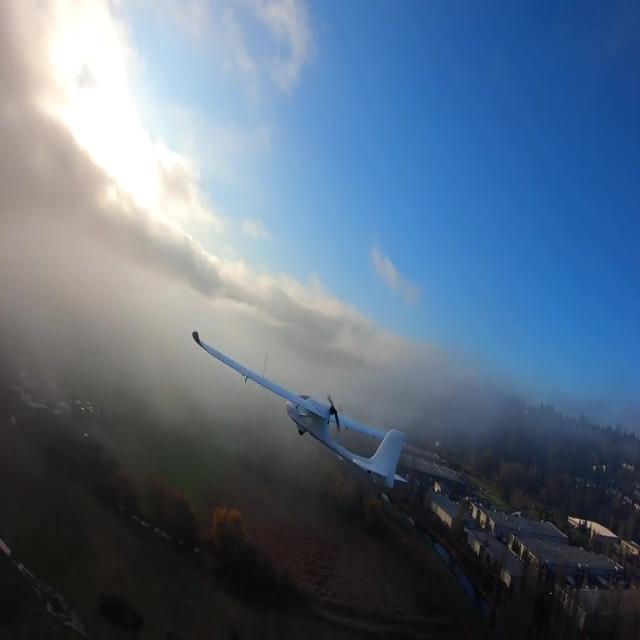iha: (191, 329, 410, 490)
